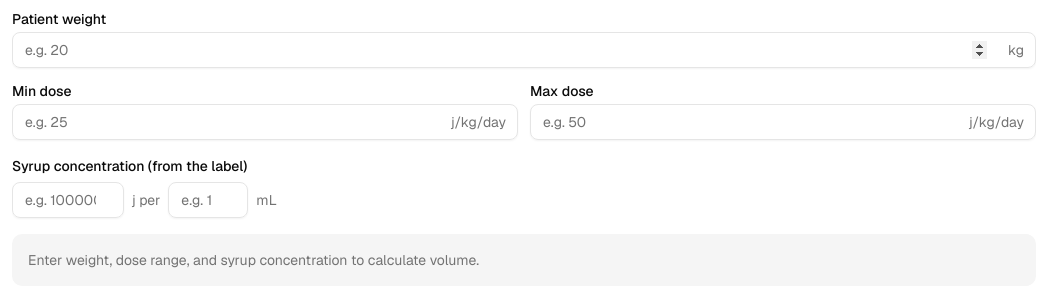
Test case: SyrupDosageCalculator › shows a validation message when the max dose is below the min dose
In the number field labelled "Patient weight": (524, 50) [12,32,1036,68], type "20"
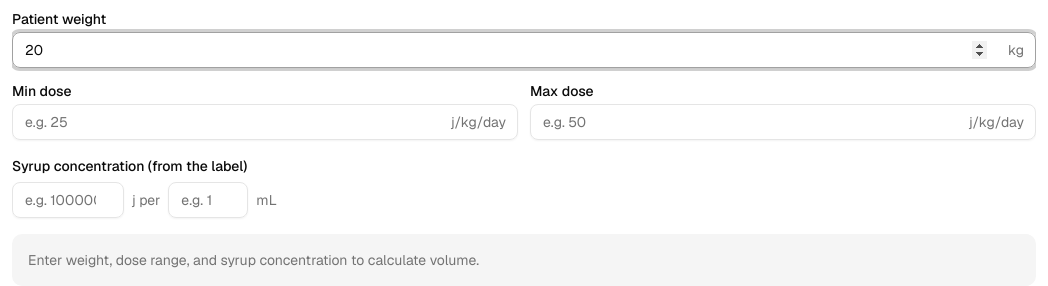
In the number field labelled "Min dose": (265, 122) [12,104,518,140], type "30"
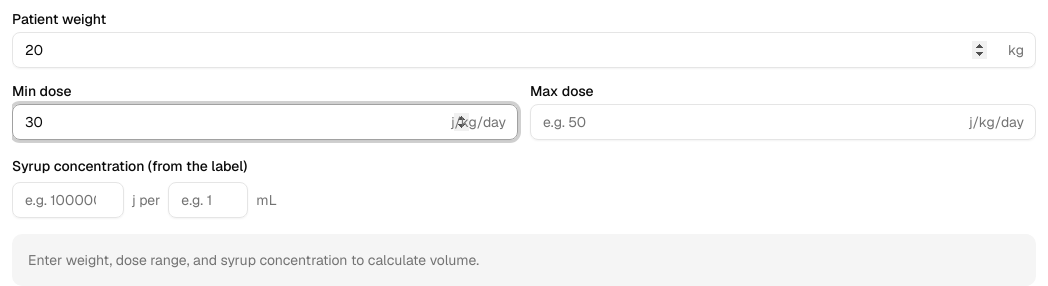
In the number field labelled "Max dose": (783, 122) [530,104,1036,140], type "15"
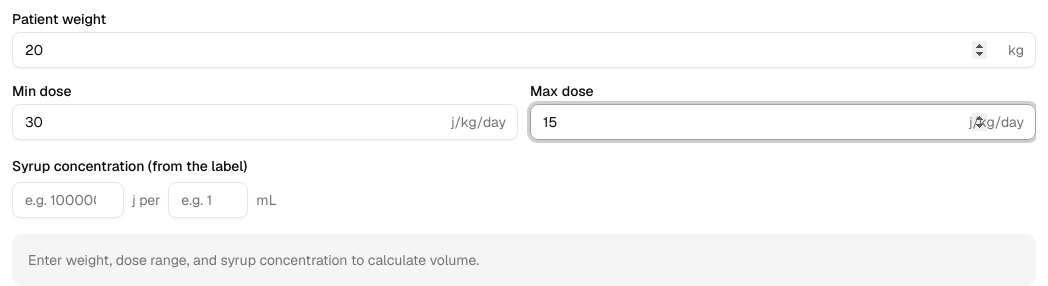
In the number field named "concentration amount in units": (68, 200) [12,182,124,218], type "250"
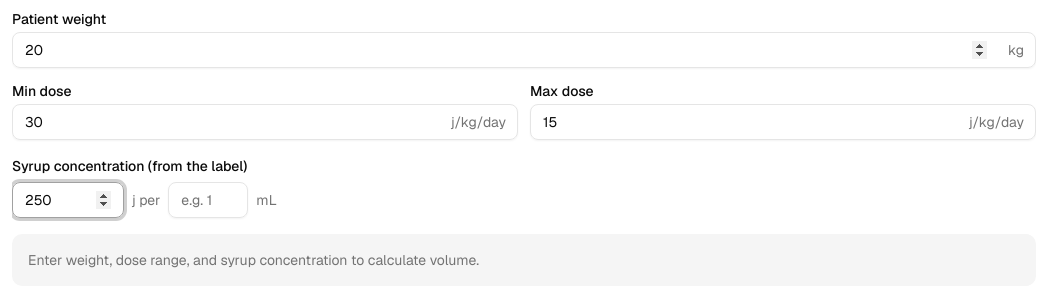
In the number field named "concentration volume in milliliters": (208, 200) [168,182,248,218], type "5"
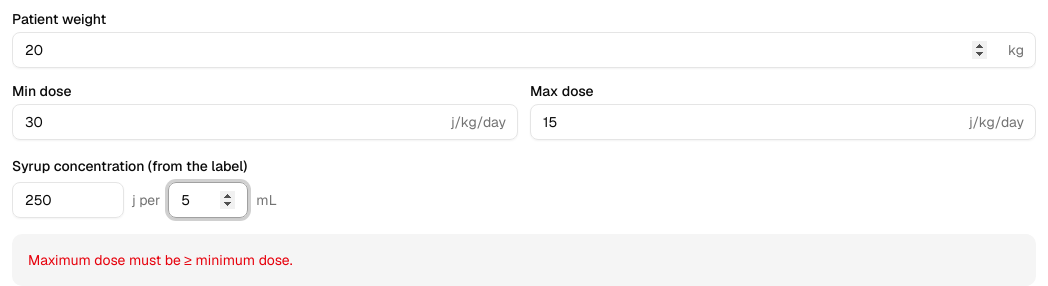
Now the text "Maximum dose must be ≥ minimum dose." is shown, box [28,251,292,269]
